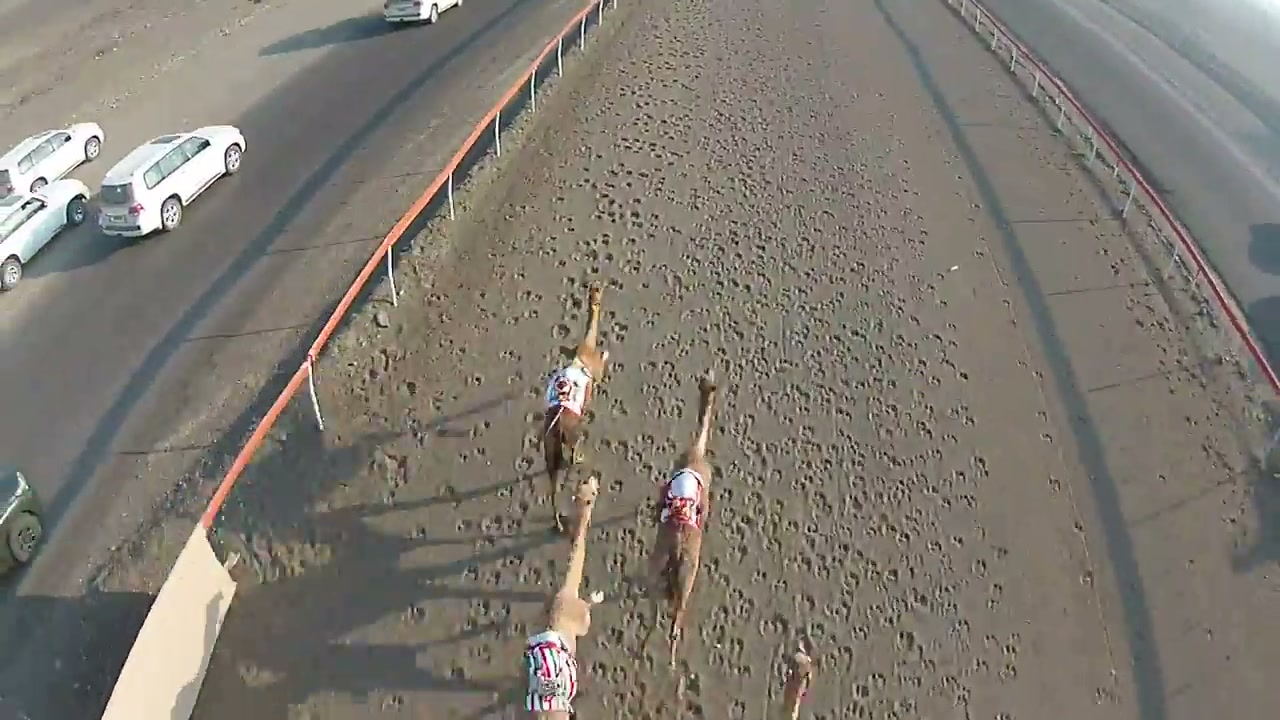animal_footprint: (424, 38, 702, 678), (711, 118, 913, 706), (595, 94, 773, 709)
